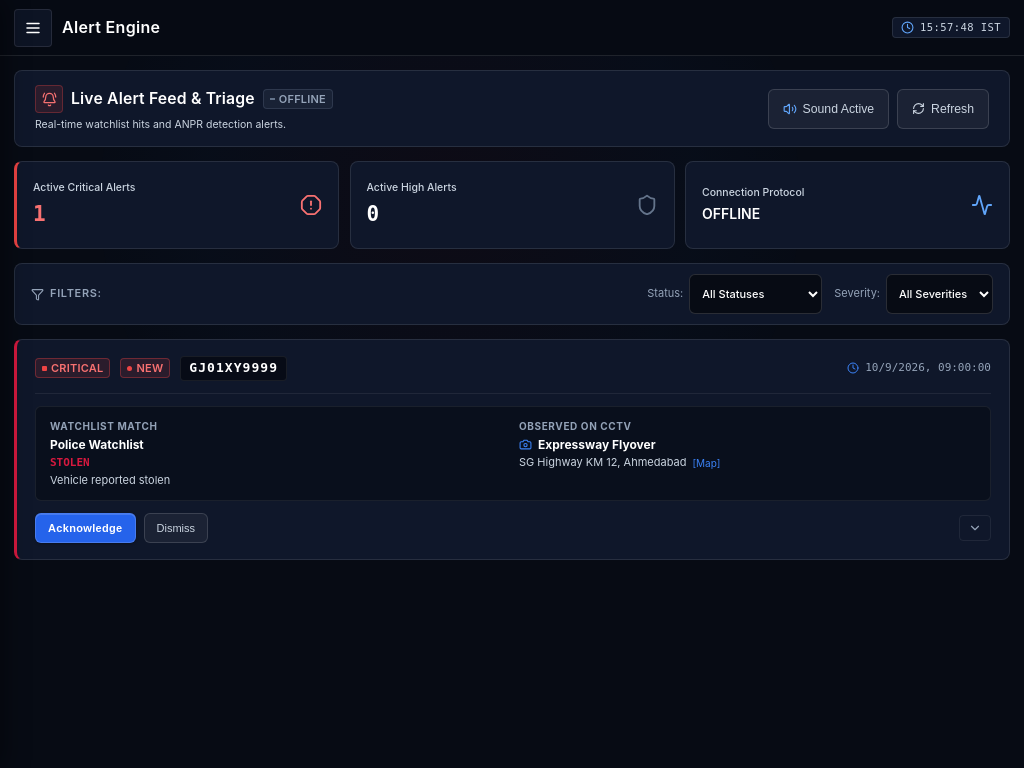
Test: Alerts Live Console Page (Phase 4E) › correctly handles backend source_sighting property and renders camera and map links
expect the text "GJ01XY9999" is shown: met, box 180,356 -> 287,381
expect the link "Expressway Flyover" is shown: met, box 538,436 -> 656,453
Note: Expand details
Click the button titled "Toggle Audit & Evidence Details" at [975, 528], box 959,516 -> 991,542
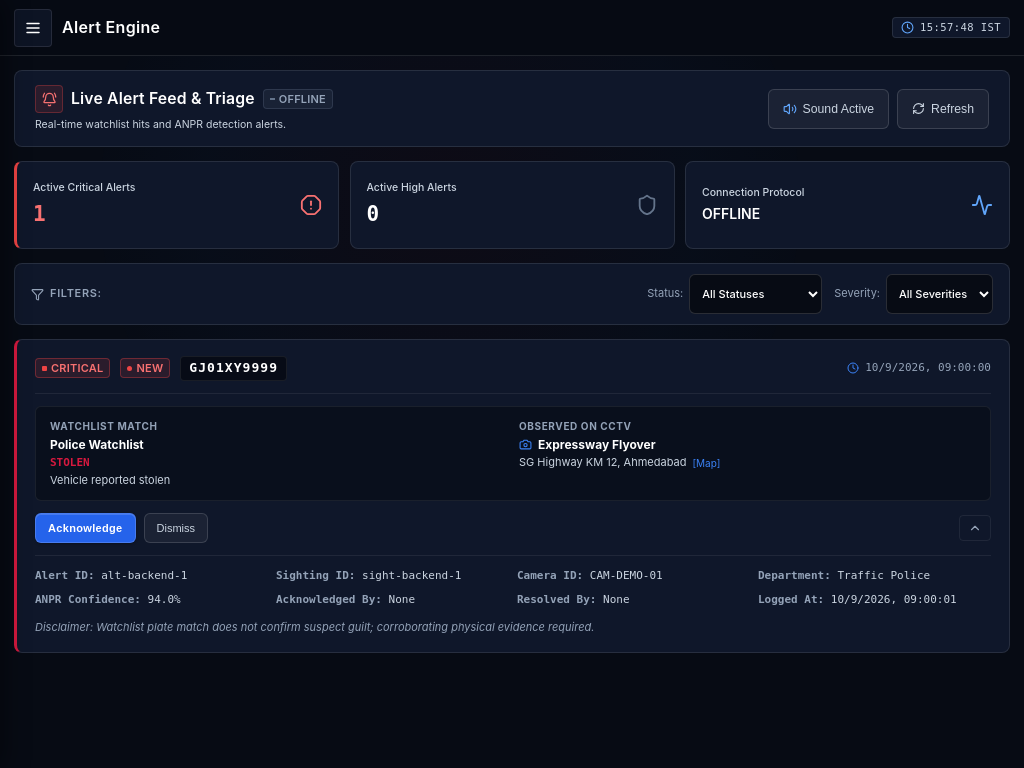
expect the text "sight-backend-1" is shown: met, box 362,570 -> 461,582
expect the text "CAM-DEMO-01" is shown: met, box 590,570 -> 663,582
expect the text "Traffic Police" is shown: met, box 838,570 -> 930,582
